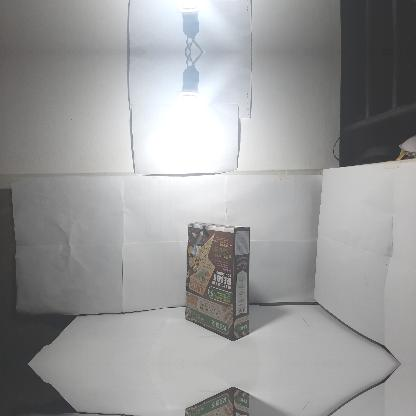Koko-Krunch: (185, 222, 249, 340), (185, 387, 250, 415)
